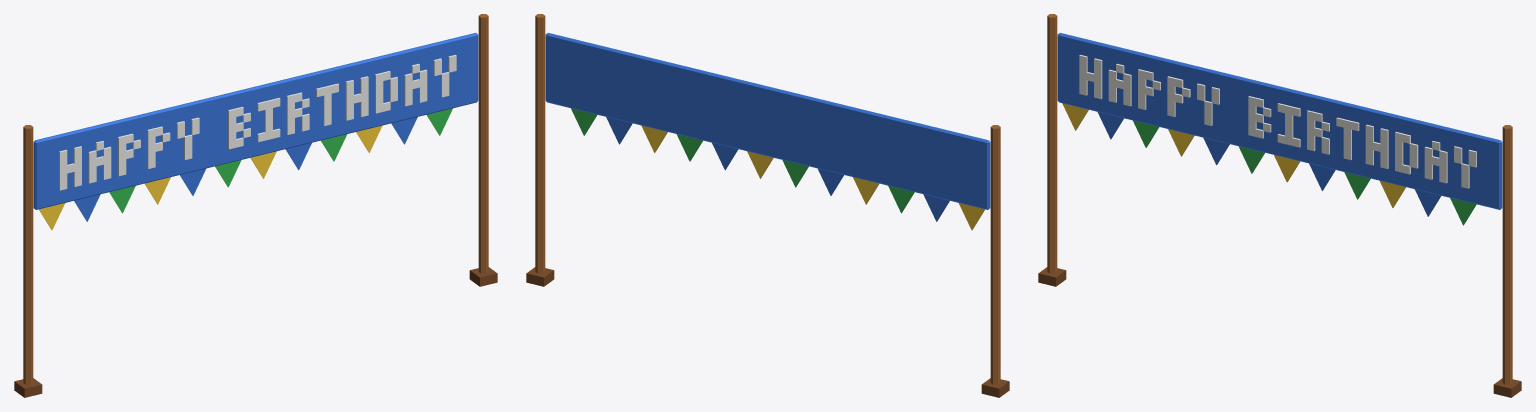
The model's file is BirthdayBanner.fbx.
3 views of the same model, side by side, from view 1: azimuth 30°, elevation 25°; view 2: azimuth 150°, elevation 25°; view 3: azimuth 330°, elevation 25° (orthographic).
Parts seen in each view (by area): view 1: BirthdayBanner; view 2: BirthdayBanner; view 3: BirthdayBanner.
Part boxes in pixels (left/top/right/bottom): BirthdayBanner: left=14, top=14, right=497, bottom=397; BirthdayBanner: left=526, top=14, right=1009, bottom=397; BirthdayBanner: left=1038, top=14, right=1521, bottom=397.
Size of the model in its own units: 16.1 by 8.62 by 0.6.
1 material, 1 textured.
